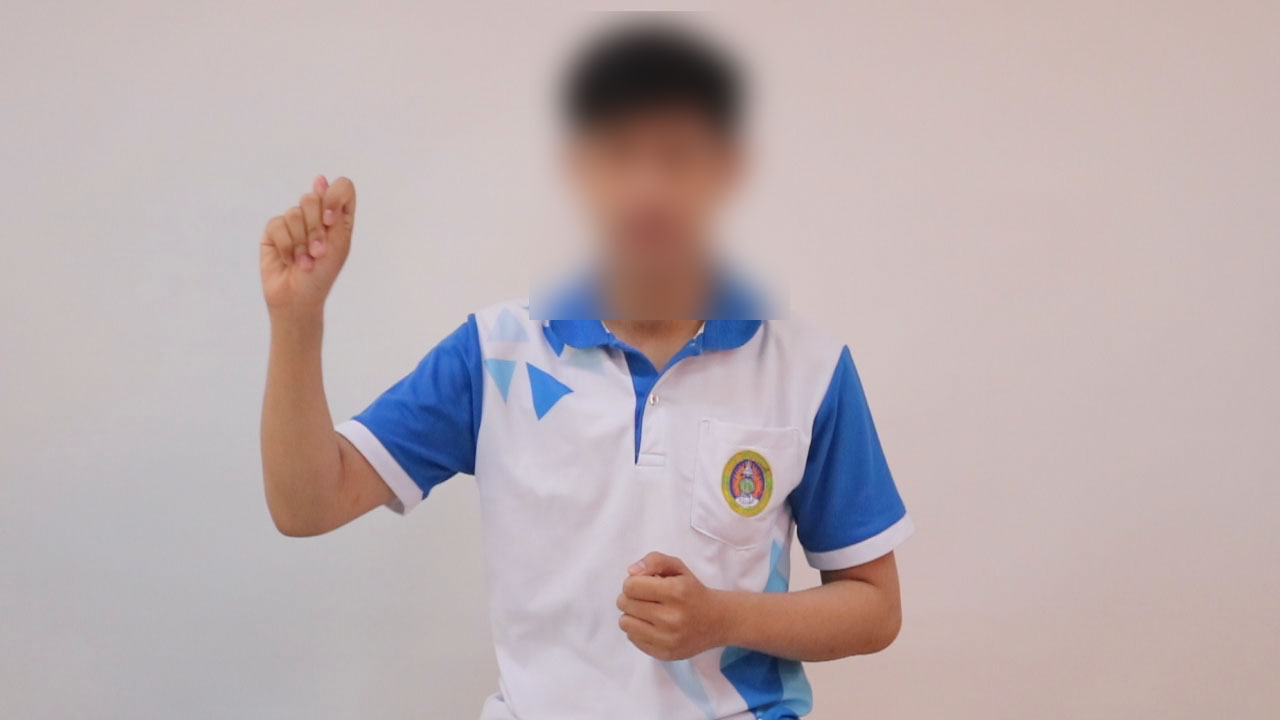tor: (229, 157, 377, 316)
